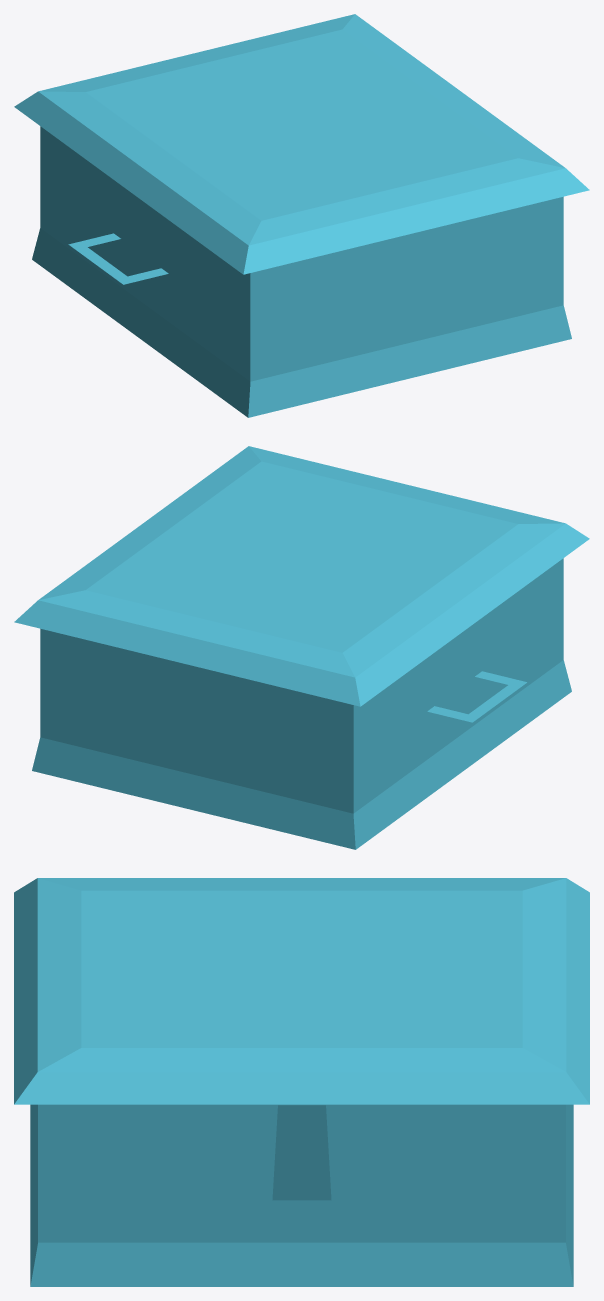
The model's file is fakit.obj.
3 renders of one model, top to bottom at view 1: azimuth 30°, elevation 25°; view 2: azimuth 150°, elevation 25°; view 3: azimuth 270°, elevation 25°, orthographic. The views are drawn at different scales.
Visible parts, largest first — view 1: Box03; view 2: Box03; view 3: Box03.
Part boxes in pixels (left/top/right/bottom): Box03: left=14, top=14, right=589, bottom=417; Box03: left=14, top=446, right=589, bottom=849; Box03: left=14, top=878, right=589, bottom=1286.
Size of the model in its own units: 47.12 by 20.88 by 49.88.
